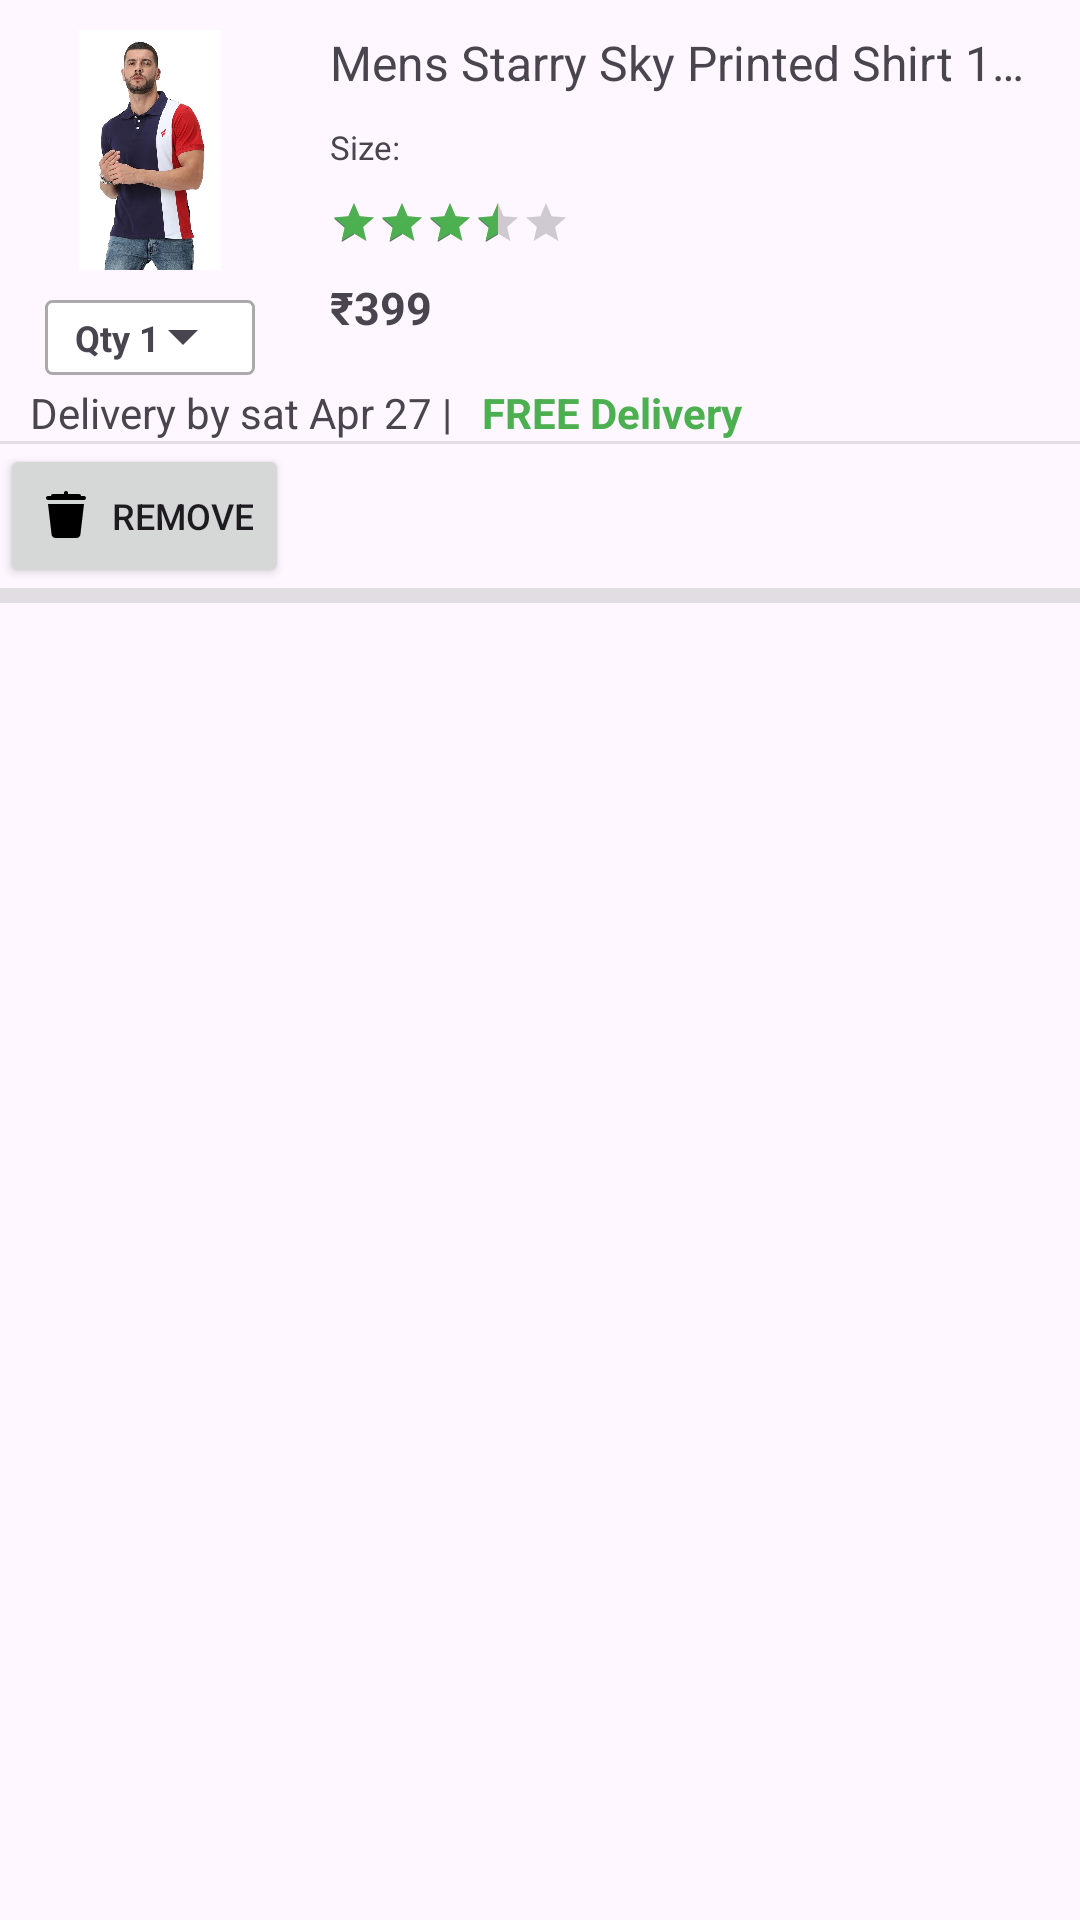

Icons on this 1080 × 1920 Android screen, each with its box as (x1, y1, x2, y2):
Product: (99, 42, 205, 270)
